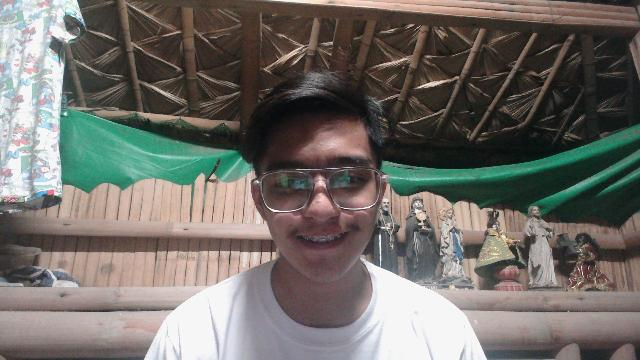senang: (245, 97, 388, 284)
